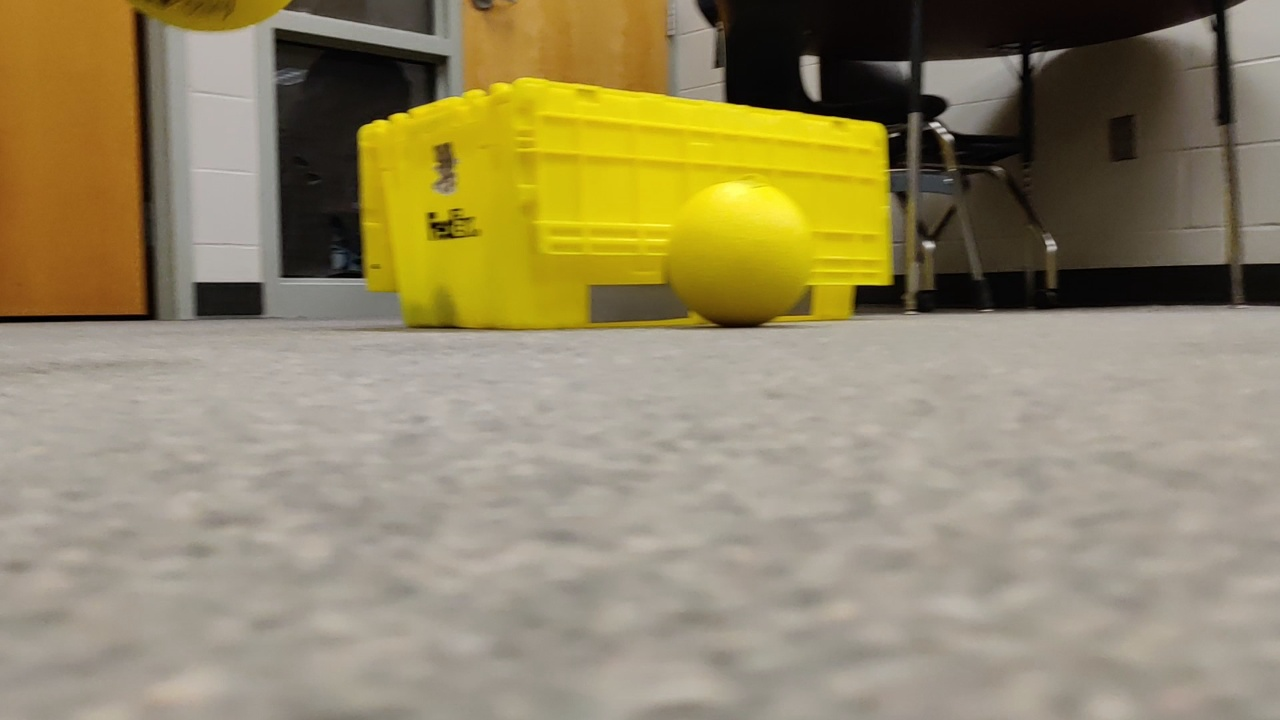Ball: (666, 178, 807, 329), (116, 1, 287, 37)
